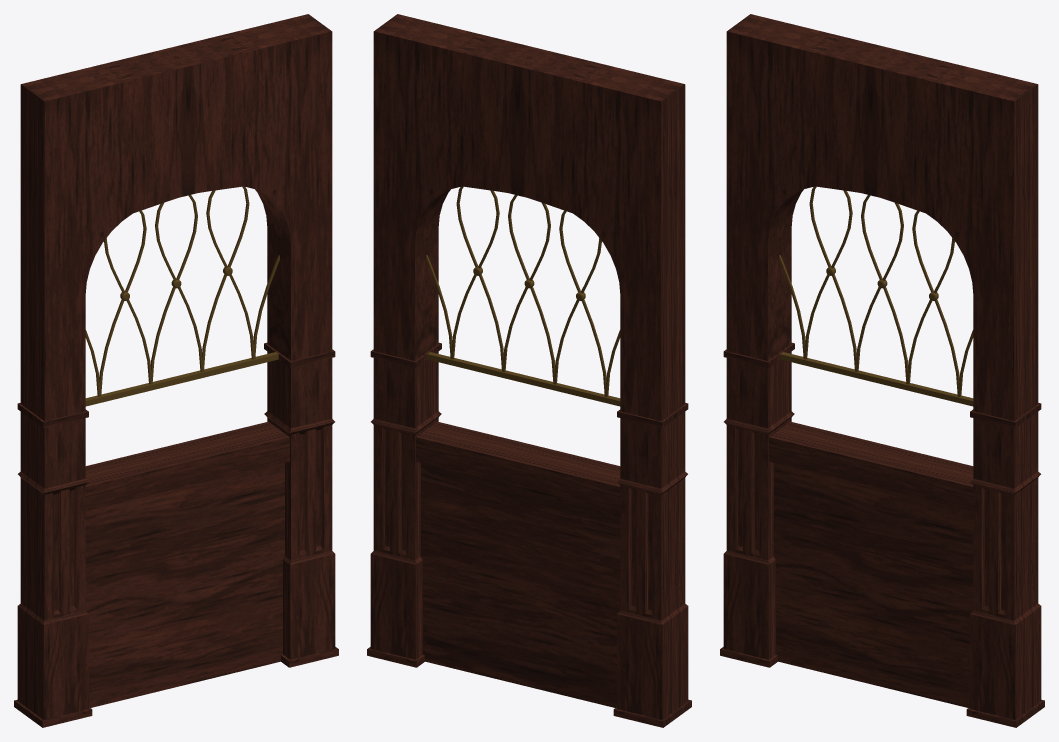
The model's file is CashierCage.gltf.
3 renders of one model, left to right at view 1: azimuth 30°, elevation 25°; view 2: azimuth 150°, elevation 25°; view 3: azimuth 330°, elevation 25°, orthographic.
Visible parts, largest first — view 1: Cube.005, Cube.003, Cage v1; view 2: Cube.005, Cube.003, Cage v1; view 3: Cube.005, Cube.003, Cage v1.
Boxes of the visible parts, left/top/right/bottom form: Cube.005: left=14, top=14, right=338, bottom=727; Cube.003: left=85, top=462, right=284, bottom=707; Cage v1: left=85, top=186, right=279, bottom=406; Cube.005: left=367, top=14, right=691, bottom=727; Cube.003: left=421, top=462, right=620, bottom=707; Cage v1: left=426, top=186, right=620, bottom=406; Cube.005: left=720, top=14, right=1044, bottom=727; Cube.003: left=774, top=462, right=973, bottom=707; Cage v1: left=779, top=186, right=973, bottom=406.
Bounding box in the file's own units: 1.44 × 2.9 × 0.242.
Materials: 2 (1 with a texture image).
